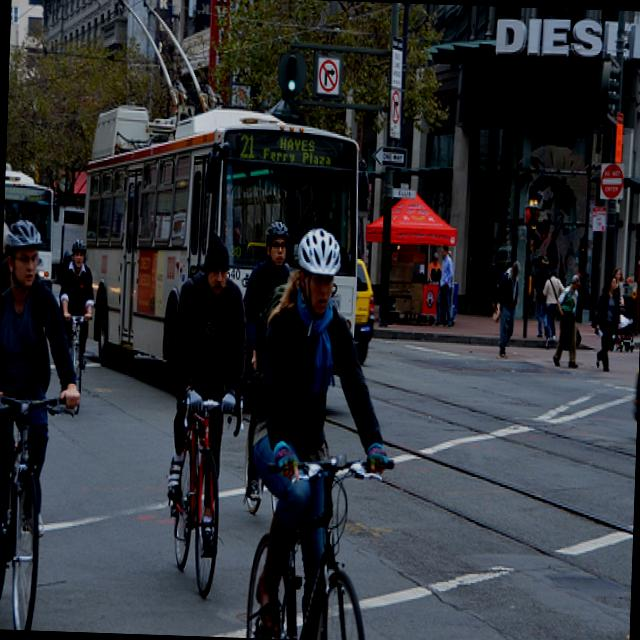Vehicle: (75, 99, 362, 369), (1, 93, 63, 294), (353, 259, 378, 363)
